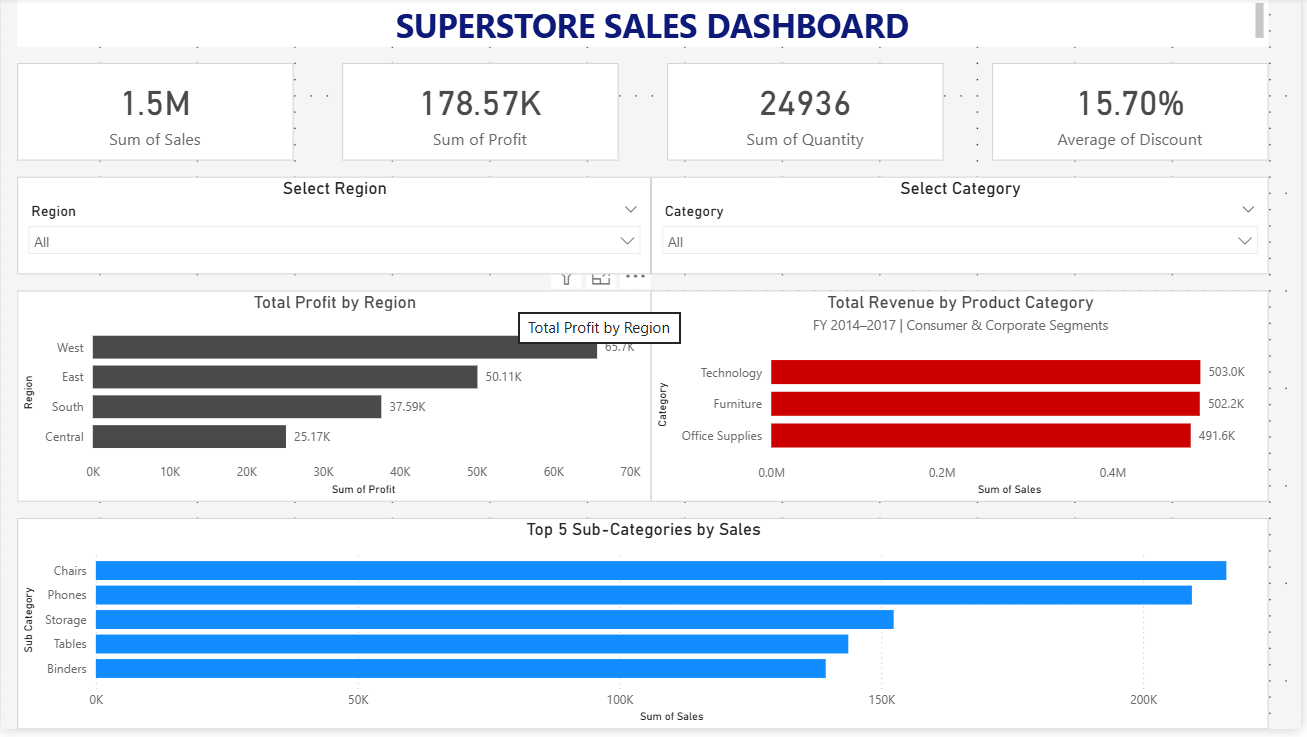

The dashboard page shown, as its layout file describes it:
{"tool":"powerbi","page":{"name":"DashBoard","canvas":[1280,720],"ordinal":0},"visuals":[{"type":"card","fields":{"Values":["Sum(Sample - Superstore.Sales)"]},"box":[16,64,272,96],"z":0},{"type":"card","fields":{"Values":["Sum(Sample - Superstore.Profit)"]},"box":[336,64,272,96],"z":1},{"type":"card","fields":{"Values":["Sum(Sample - Superstore.Quantity)"]},"box":[656,64,272,96],"z":2},{"type":"card","fields":{"Values":["Avg(Sample - Superstore.Discount)"]},"box":[976,64,272,96],"z":3},{"type":"clusteredBarChart","title":"Total Revenue by Product Category","fields":{"Category":["Sample - Superstore.Category"],"Y":["Sum(Sample - Superstore.Sales)"]},"box":[640,288,608,208],"z":4},{"type":"clusteredBarChart","title":"Total Profit by Region","fields":{"Category":["Sample - Superstore.Region"],"Y":["Sum(Sample - Superstore.Profit)"]},"box":[16,288,624,208],"z":5},{"type":"slicer","title":"Select Region","fields":{"Values":["Sample - Superstore.Region"]},"box":[16,176,624,96],"z":6},{"type":"slicer","title":"Select Category","fields":{"Values":["Sample - Superstore.Category"]},"box":[640,176,608,96],"z":7},{"type":"clusteredBarChart","title":"Top 5 Sub-Categories by Sales","fields":{"Category":["Sample - Superstore.Sub Category"],"Y":["Sum(Sample - Superstore.Sales)"]},"box":[16,512,1232,208],"z":8},{"type":"textbox","box":[16,0,1232,48],"z":9}]}

Visuals, with their boxes in screenshot pixels (x1, y1, x2, y2), scaled from the page's 1280x720 canvas onto the 1307x737 screenshot:
card - Sum(Sample - Superstore.Sales): [left=16, top=66, right=294, bottom=164]
card - Sum(Sample - Superstore.Profit): [left=343, top=66, right=621, bottom=164]
card - Sum(Sample - Superstore.Quantity): [left=670, top=66, right=948, bottom=164]
card - Avg(Sample - Superstore.Discount): [left=997, top=66, right=1274, bottom=164]
"Total Revenue by Product Category" clusteredBarChart: [left=654, top=295, right=1274, bottom=508]
"Total Profit by Region" clusteredBarChart: [left=16, top=295, right=654, bottom=508]
"Select Region" slicer: [left=16, top=180, right=654, bottom=278]
"Select Category" slicer: [left=654, top=180, right=1274, bottom=278]
"Top 5 Sub-Categories by Sales" clusteredBarChart: [left=16, top=524, right=1274, bottom=736]
textbox: [left=16, top=0, right=1274, bottom=49]
